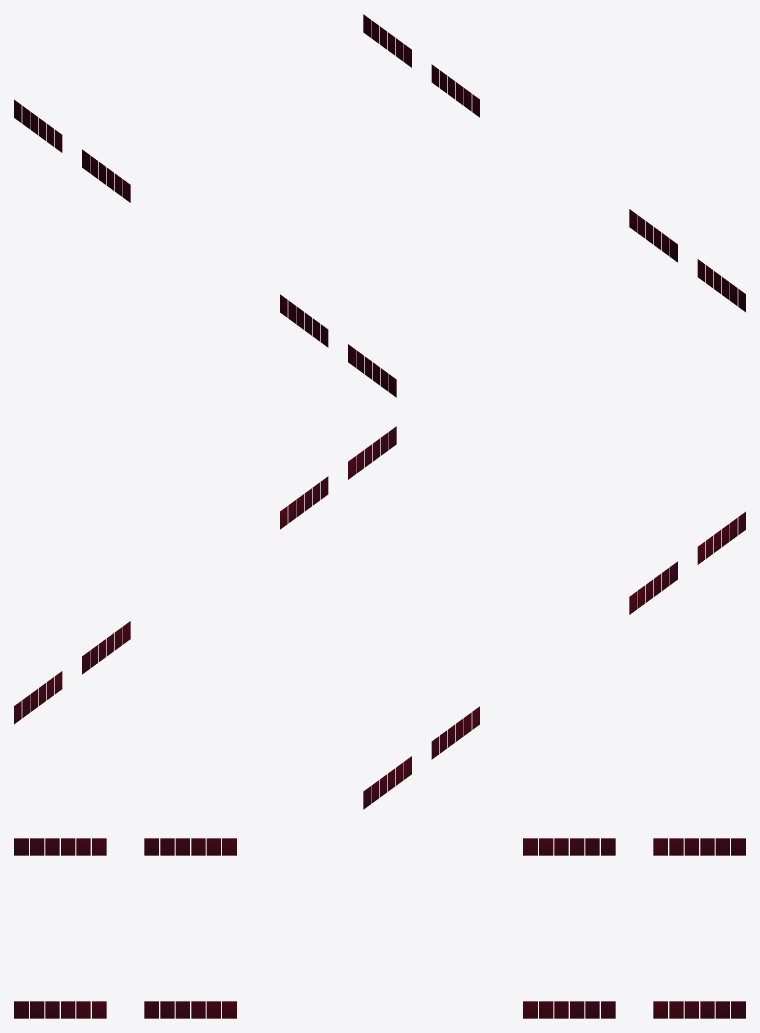
File: Hanger_Glass.fbx
The picture shows the model from 3 angles, top to bottom: view 1: azimuth 30°, elevation 25°; view 2: azimuth 150°, elevation 25°; view 3: azimuth 270°, elevation 25°; orthographic projection. The views are drawn at different scales.
Visible parts, largest first — view 1: Hanger_Glass; view 2: Hanger_Glass; view 3: Hanger_Glass.
Boxes of the visible parts, x1,y1,x2,y2 form: Hanger_Glass: (14,14,745,397); Hanger_Glass: (14,426,745,809); Hanger_Glass: (14,838,745,1018).
Size of the model in its own units: 3993 by 200 by 7572.
